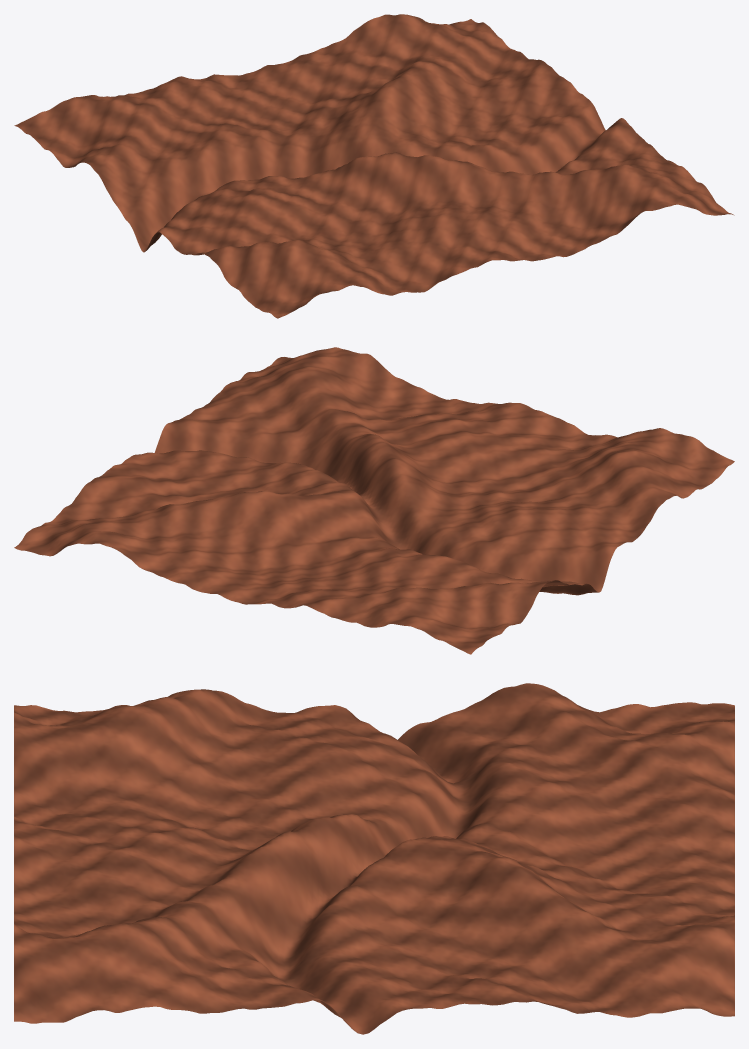
File: mars_landscape.glb
The picture shows the model from 3 angles, top to bottom: view 1: azimuth 30°, elevation 25°; view 2: azimuth 150°, elevation 25°; view 3: azimuth 270°, elevation 25°; orthographic projection. The views are drawn at different scales.
Visible parts, largest first — view 1: Mars Landscape; view 2: Mars Landscape; view 3: Mars Landscape.
Boxes of the visible parts, x1,y1,x2,y2 form: Mars Landscape: (14, 14, 734, 318); Mars Landscape: (14, 347, 734, 654); Mars Landscape: (14, 683, 734, 1034).
Size of the model in its own units: 760 by 99.6 by 760.
1 material, 1 textured.
